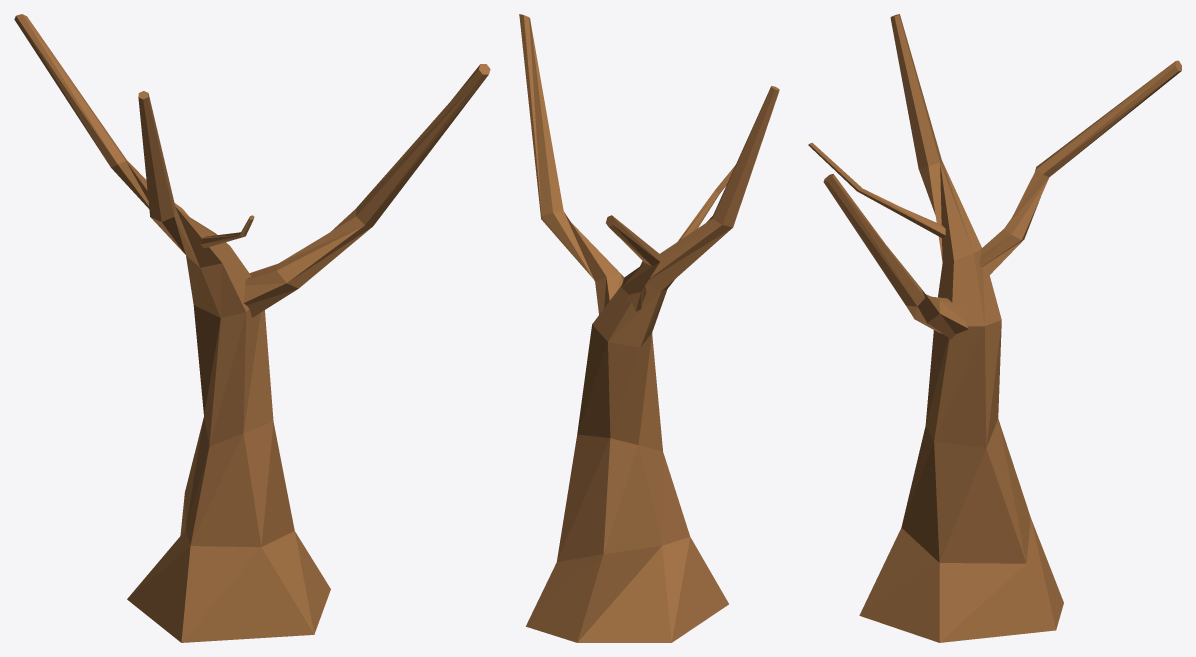
The model's file is tree_dead5.fbx.
3 views of the same model, side by side, from view 1: azimuth 30°, elevation 25°; view 2: azimuth 150°, elevation 25°; view 3: azimuth 270°, elevation 25° (orthographic). The views are drawn at different scales.
Parts seen in each view (by area): view 1: tree_dead5; view 2: tree_dead5; view 3: tree_dead5.
Boxes of the visible parts, x1,y1,x2,y2 form: tree_dead5: (14,14,490,642); tree_dead5: (519,14,779,642); tree_dead5: (808,14,1181,642).
Size of the model in its own units: 1.93 by 3.3 by 2.1.
